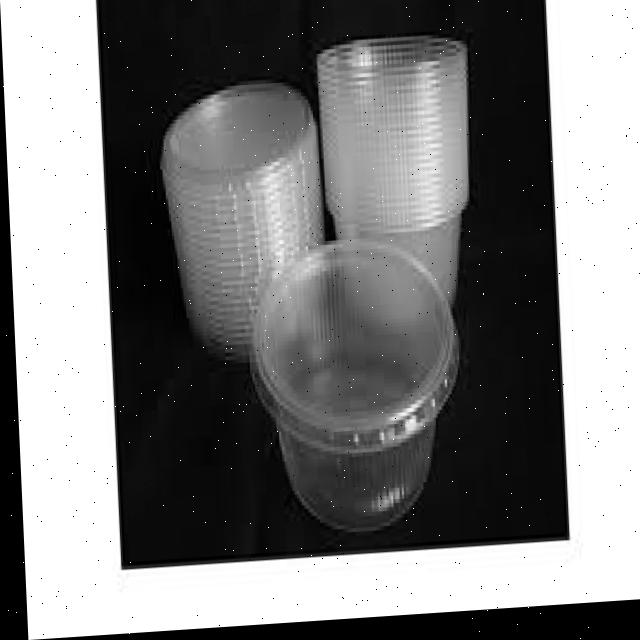disposable: (246, 229, 465, 557)
